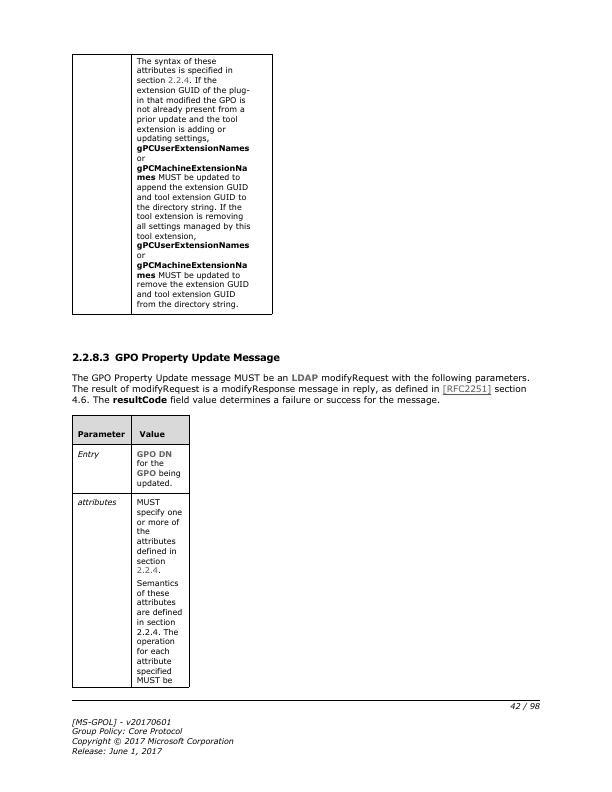table: (73, 54, 274, 316), (73, 416, 190, 689)
text: (69, 371, 531, 406), (69, 716, 235, 756), (71, 350, 282, 364)
